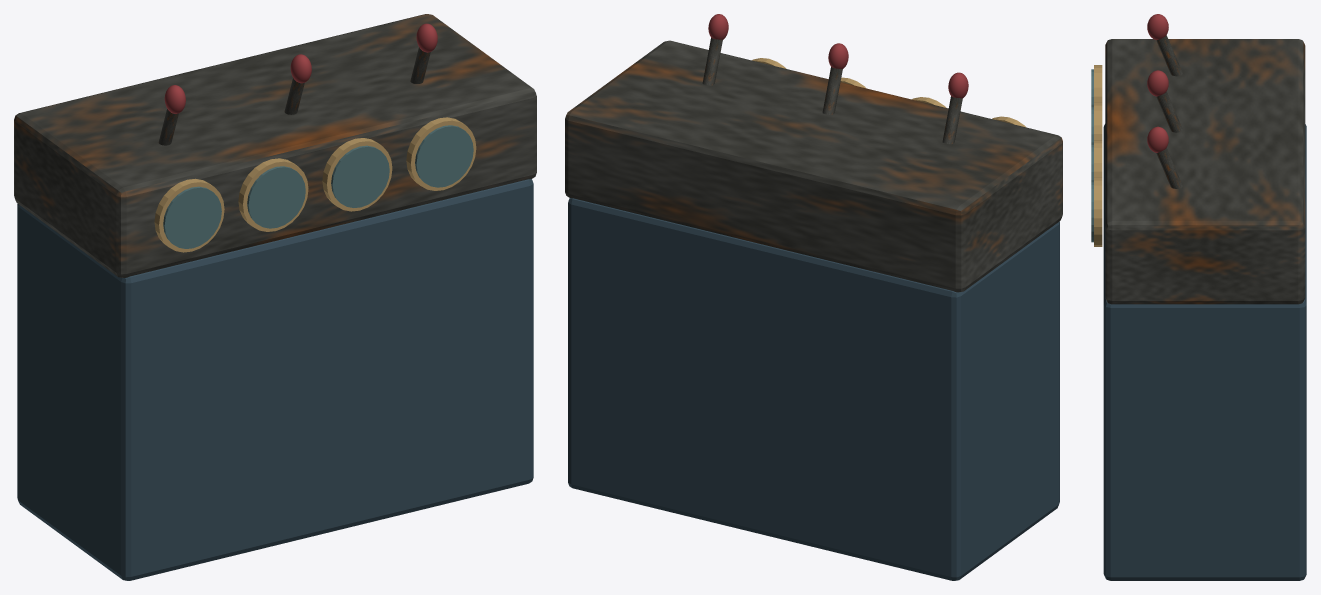
The model's file is panel_masinis.glb.
3 renders of one model, left to right at view 1: azimuth 30°, elevation 25°; view 2: azimuth 150°, elevation 25°; view 3: azimuth 270°, elevation 25°, orthographic. The views are drawn at different scales.
Parts seen in each view (by area): view 1: Panel meja, Panel depan, Kaca dial.001, Kaca dial.003, Kaca dial.002, Kaca dial, Dial rim.001, Dial rim.002, Dial rim.003, Dial rim; view 2: Panel meja, Panel depan; view 3: Panel meja, Panel depan, Dial rim.003, Sakelar, Sakelar.001, Sakelar.002, Gagang, Gagang.002, Gagang.001, Dial rim, Dial rim.002, Dial rim.001.
Boxes of the visible parts, x1,y1,x2,y2 form: Panel meja: (17,179,533,580); Panel depan: (14,14,536,277); Kaca dial.001: (247,166,305,228); Kaca dial.003: (415,125,473,187); Kaca dial.002: (331,145,389,207); Kaca dial: (163,186,221,248); Dial rim.001: (238,158,308,231); Dial rim.002: (322,138,392,211); Dial rim.003: (406,117,476,190); Dial rim: (154,178,224,252); Panel meja: (568,198,1059,580); Panel depan: (565,40,1062,292); Panel meja: (1103,124,1306,580); Panel depan: (1105,39,1305,304); Dial rim.003: (1094,177,1102,246); Sakelar: (1156,35,1182,76); Sakelar.001: (1156,92,1182,132); Sakelar.002: (1156,148,1182,188); Gagang: (1147,14,1168,40); Gagang.002: (1147,126,1168,152); Gagang.001: (1147,70,1168,96); Dial rim: (1094,65,1102,102); Dial rim.002: (1094,140,1102,177); Dial rim.001: (1094,102,1102,139).
Bounding box in the file's own units: 1.6 × 1.67 × 0.775.
Materials: 5 (1 with a texture image).
